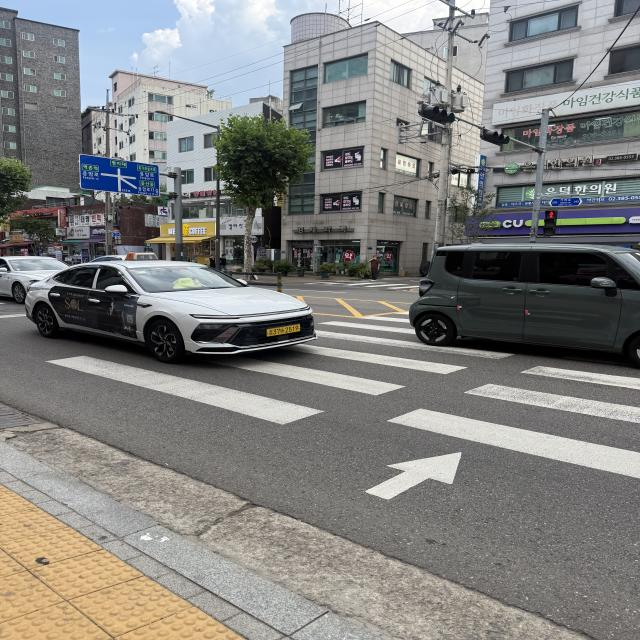car: (25, 261, 317, 363), (409, 243, 640, 366)
